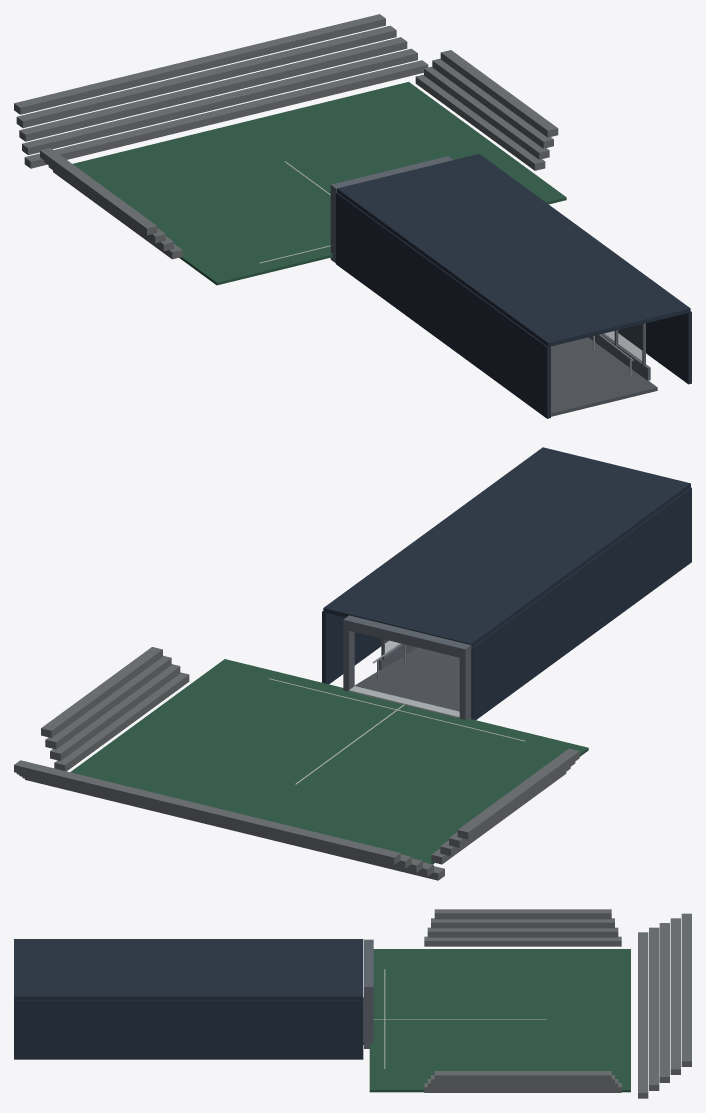
The model's file is camp-nou-tunnel-blockout.glb.
3 views of the same model, one above another, from view 1: azimuth 30°, elevation 25°; view 2: azimuth 150°, elevation 25°; view 3: azimuth 270°, elevation 25° (orthographic). The views are drawn at different scales.
Visible parts, largest first — view 1: Pitch_Turf, Tunnel_Ceiling, Tunnel_Wall_Left, Bowl_Far_Row_02, Bowl_Far_Row_03, Bowl_Far_Row_01, Tunnel_Floor_Main, Bowl_Far_Row_04, Bowl_Far_Row_05, Tunnel_Wall_Right_Back, Bowl_Right_Row_04, Bowl_Left_Row_04 (+6 smaller); view 2: Pitch_Turf, Tunnel_Ceiling, Tunnel_Wall_Left, Bowl_Far_Row_05, Tunnel_Exit_Ramp, Bowl_Left_Row_04, Bowl_Right_Row_04, Tunnel_Wall_Right_Back, Bowl_Right_Row_01, Bowl_Right_Row_02, Bowl_Right_Row_03, ExitPortal_Header (+7 smaller); view 3: Pitch_Turf, Tunnel_Ceiling, Tunnel_Wall_Right_Back, Bowl_Left_Row_01, Bowl_Left_Row_04, Bowl_Left_Row_02, Bowl_Left_Row_03, Bowl_Far_Row_01, Bowl_Far_Row_02, Bowl_Right_Row_04, Bowl_Far_Row_03, Bowl_Far_Row_04 (+6 smaller).
Part boxes in pixels (x1,y1,x2,y2): Pitch_Turf: [73, 82, 566, 285]; Tunnel_Ceiling: [337, 153, 690, 346]; Tunnel_Wall_Left: [336, 192, 550, 418]; Bowl_Far_Row_02: [22, 48, 417, 155]; Bowl_Far_Row_03: [19, 37, 407, 141]; Bowl_Far_Row_01: [24, 60, 428, 168]; Tunnel_Floor_Main: [551, 337, 657, 416]; Bowl_Far_Row_04: [16, 25, 396, 128]; Bowl_Far_Row_05: [14, 14, 385, 114]; Tunnel_Wall_Right_Back: [618, 311, 691, 384]; Bowl_Right_Row_04: [440, 50, 558, 137]; Bowl_Left_Row_04: [40, 148, 157, 235]; Pitch_Turf: [70, 659, 588, 864]; Tunnel_Ceiling: [323, 447, 690, 647]; Tunnel_Wall_Left: [471, 487, 691, 719]; Bowl_Far_Row_05: [14, 760, 400, 864]; Tunnel_Exit_Ramp: [354, 652, 459, 711]; Bowl_Left_Row_04: [457, 748, 579, 839]; Bowl_Right_Row_04: [41, 647, 162, 737]; Tunnel_Wall_Right_Back: [322, 611, 388, 684]; Bowl_Right_Row_01: [54, 672, 189, 771]; Bowl_Right_Row_02: [50, 664, 180, 760]; Bowl_Right_Row_03: [45, 655, 171, 749]; ExitPortal_Header: [344, 615, 464, 658]; Pitch_Turf: [369, 949, 630, 1092]; Tunnel_Ceiling: [14, 939, 363, 999]; Tunnel_Wall_Right_Back: [14, 1000, 363, 1059]; Bowl_Left_Row_01: [424, 936, 621, 946]; Bowl_Left_Row_04: [434, 909, 611, 919]; Bowl_Left_Row_02: [427, 927, 618, 937]; Bowl_Left_Row_03: [431, 918, 614, 928]; Bowl_Far_Row_01: [638, 932, 648, 1098]; Bowl_Far_Row_02: [649, 927, 659, 1090]; Bowl_Right_Row_04: [434, 1071, 611, 1080]; Bowl_Far_Row_03: [659, 923, 669, 1082]; Bowl_Far_Row_04: [670, 918, 680, 1074].
Size of the model in its own units: 25.85 by 4.74 by 44.62.
